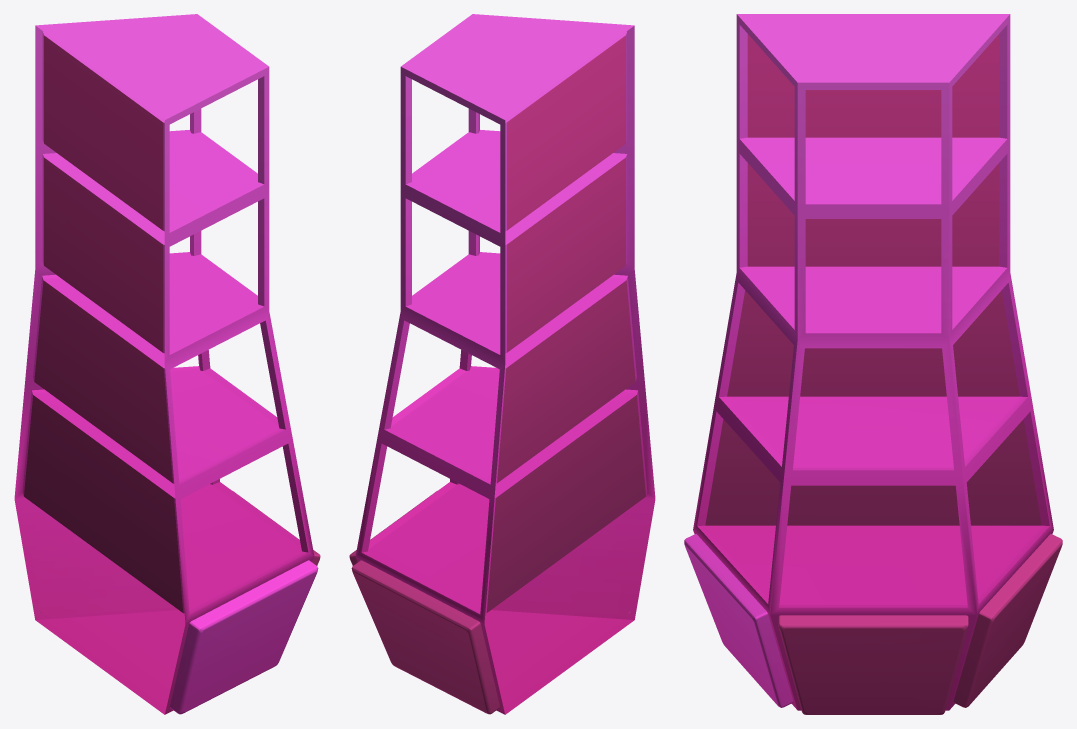
The model's file is Shelf_Corner_Candy.fbx.
The picture shows the model from 3 angles, left to right: view 1: azimuth 30°, elevation 25°; view 2: azimuth 150°, elevation 25°; view 3: azimuth 270°, elevation 25°; orthographic projection. The views are drawn at different scales.
Parts seen in each view (by area): view 1: Shelf_Corner_Candy; view 2: Shelf_Corner_Candy; view 3: Shelf_Corner_Candy.
Part boxes in pixels (box(x1,y1,x2,y2)): Shelf_Corner_Candy: box(14, 14, 320, 714); Shelf_Corner_Candy: box(349, 14, 655, 714); Shelf_Corner_Candy: box(684, 14, 1062, 714).
Size of the model in its own units: 5.37 by 17.22 by 9.41.
